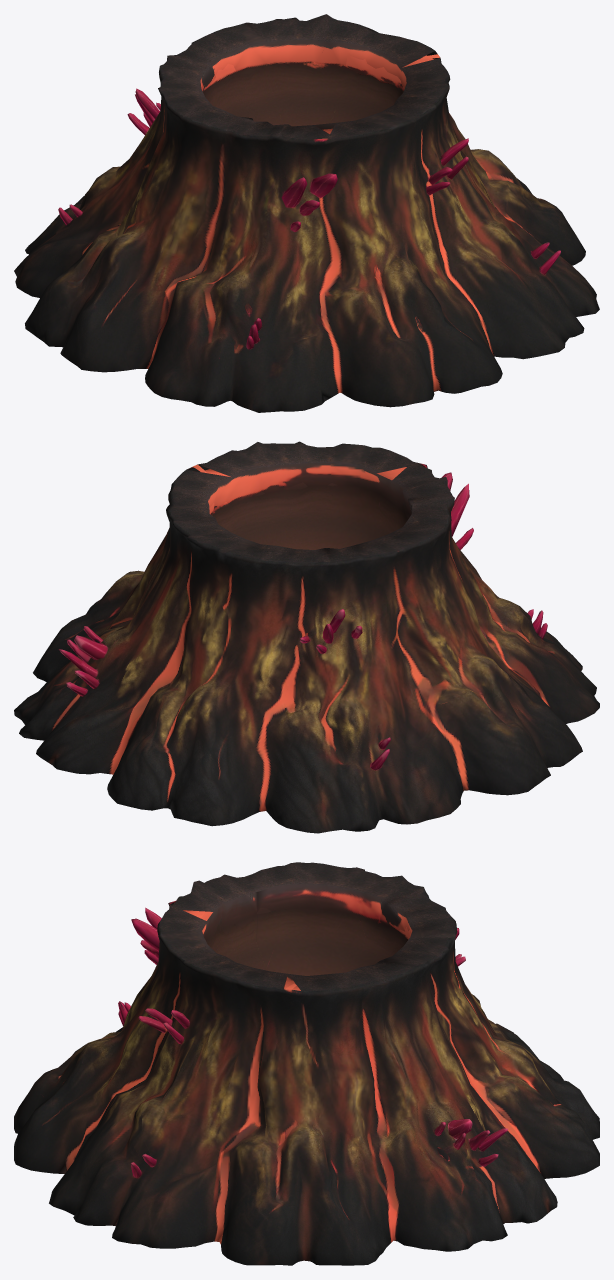
The model's file is mana-well-red.glb.
3 renders of one model, top to bottom at view 1: azimuth 30°, elevation 25°; view 2: azimuth 150°, elevation 25°; view 3: azimuth 270°, elevation 25°, orthographic. The views are drawn at different scales.
Size of the model in its own units: 1 by 0.4147 by 1.
1 material, 1 textured.
